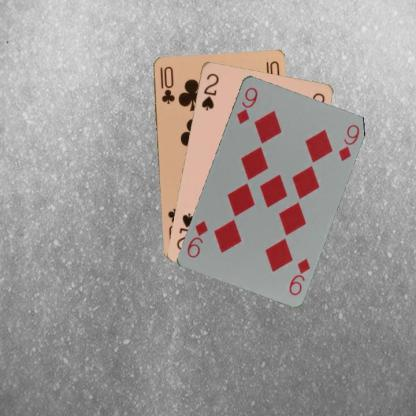10c: (157, 64, 176, 105)
2s: (198, 70, 220, 112)
9d: (233, 84, 259, 126), (286, 256, 311, 296)
